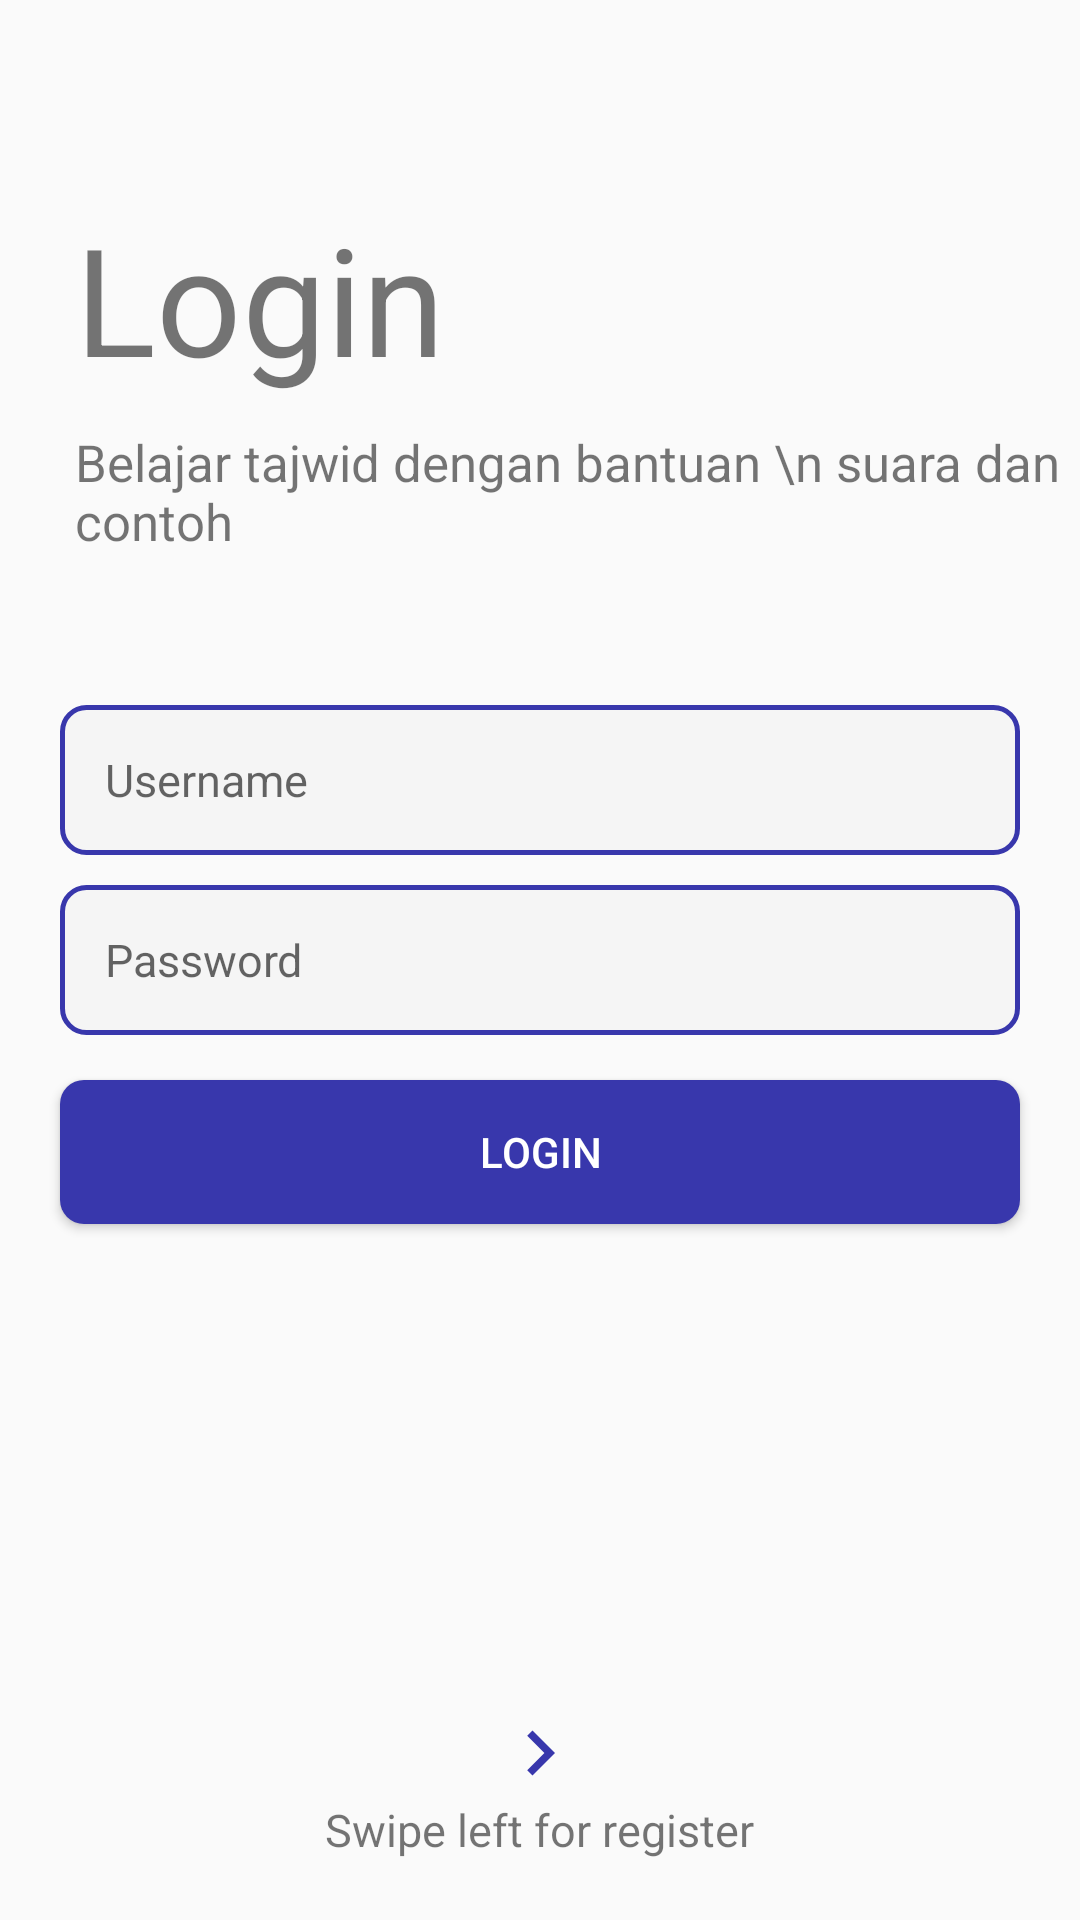

Icon click points for this 1080×1920 phone screenshot, format (x=x, y=y):
arrow right: (x=541, y=1753)
